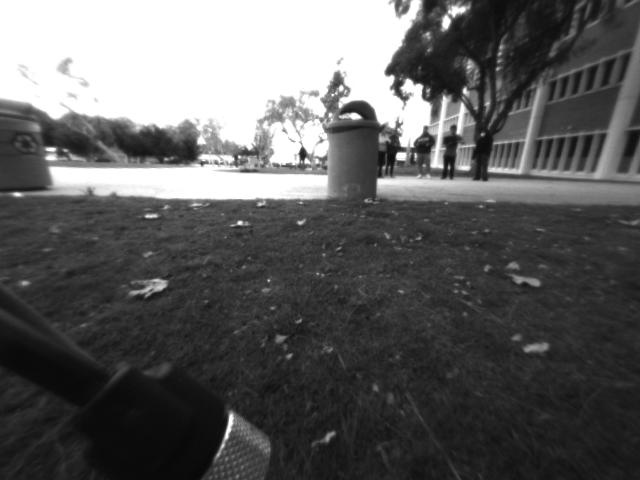trashcan: (323, 100, 387, 203)
